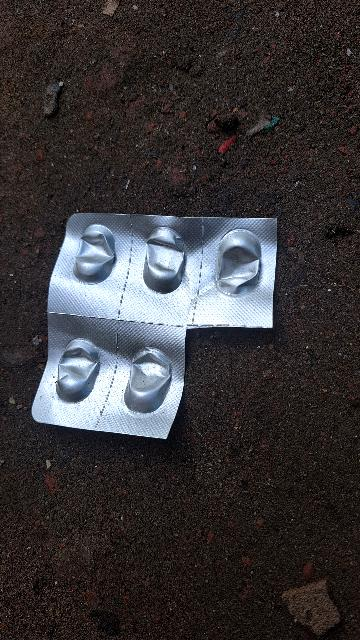medicine: (27, 200, 277, 453)
